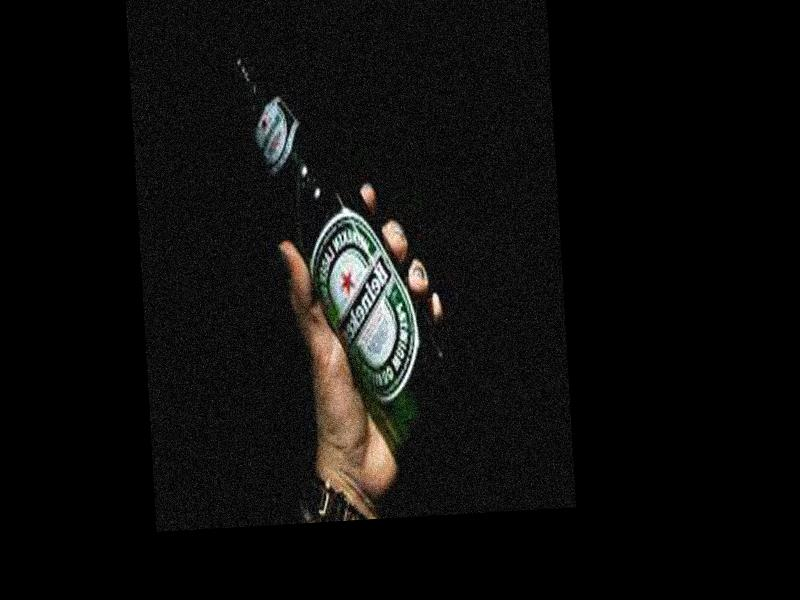Beer: (227, 30, 457, 474)
